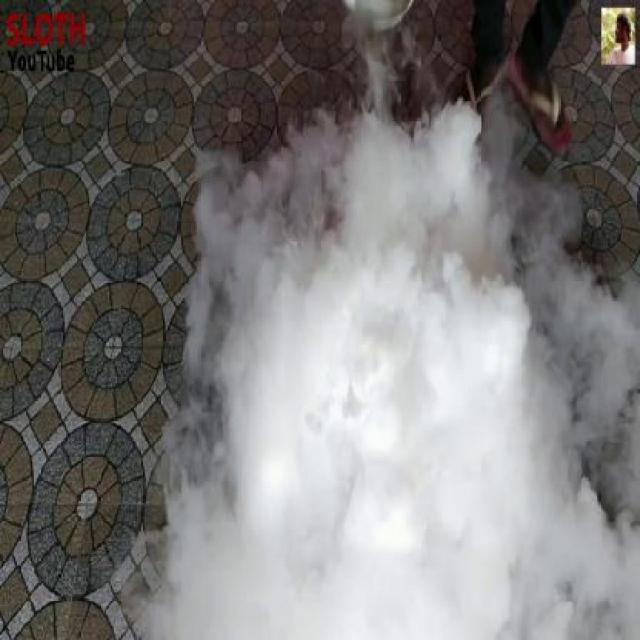smoke: (192, 186, 592, 622)
